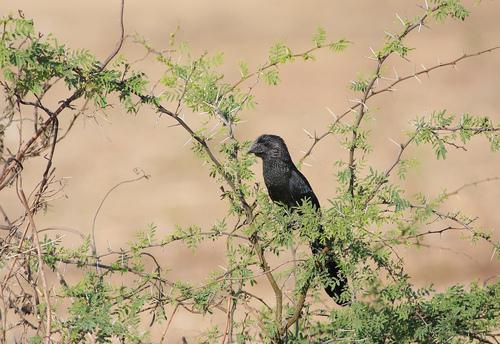004.Groove_billed_Ani: (245, 134, 353, 307)
